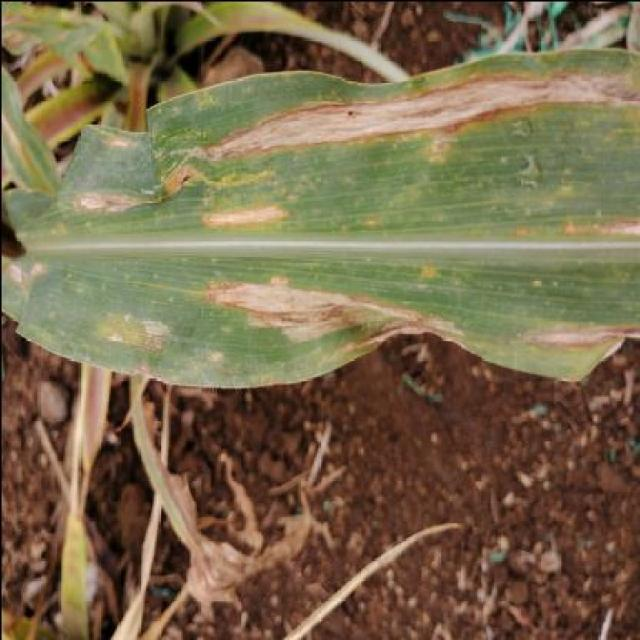Corn_Leaf_Blight: (21, 42, 640, 395)
